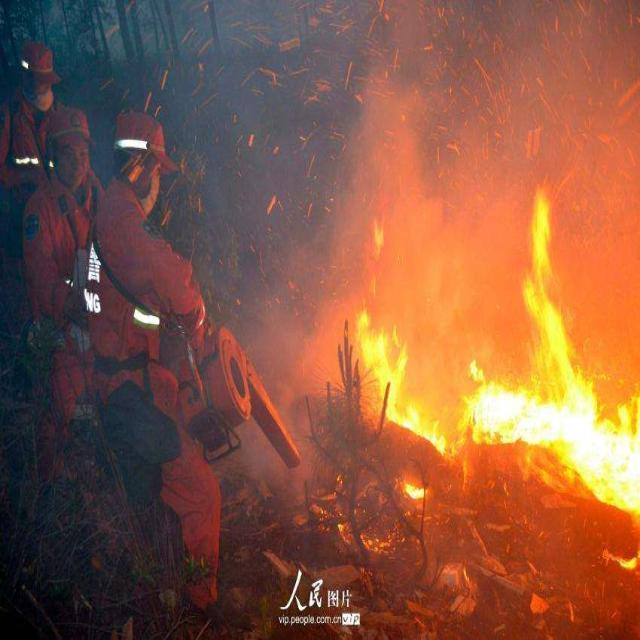Fire: (353, 182, 640, 516)
